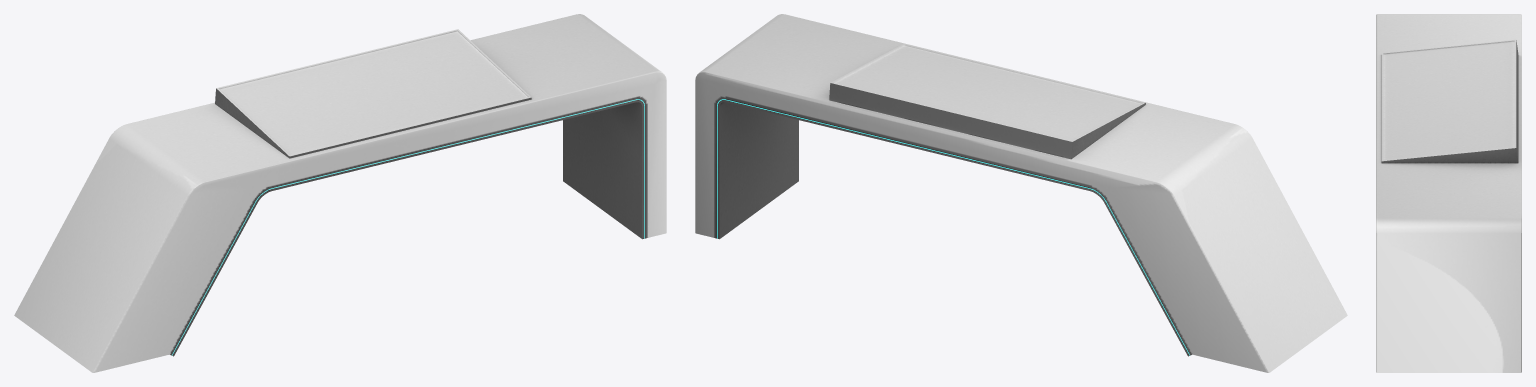
3 renders of one model, left to right at view 1: azimuth 30°, elevation 25°; view 2: azimuth 150°, elevation 25°; view 3: azimuth 270°, elevation 25°, orthographic. The views are drawn at different scales.
Visible parts, largest first — view 1: Cube.001, Cube.002; view 2: Cube.001, Cube.002; view 3: Cube.001, Cube.002.
Boxes of the visible parts, x1,y1,x2,y2 form: Cube.001: (14, 14, 666, 372); Cube.002: (215, 29, 531, 158); Cube.001: (695, 14, 1347, 372); Cube.002: (829, 43, 1145, 159); Cube.001: (1376, 14, 1521, 372); Cube.002: (1381, 39, 1518, 163).
Size of the model in its own units: 2.5 by 0.7634 by 0.5989.
Materials: 3 (2 with a texture image).
